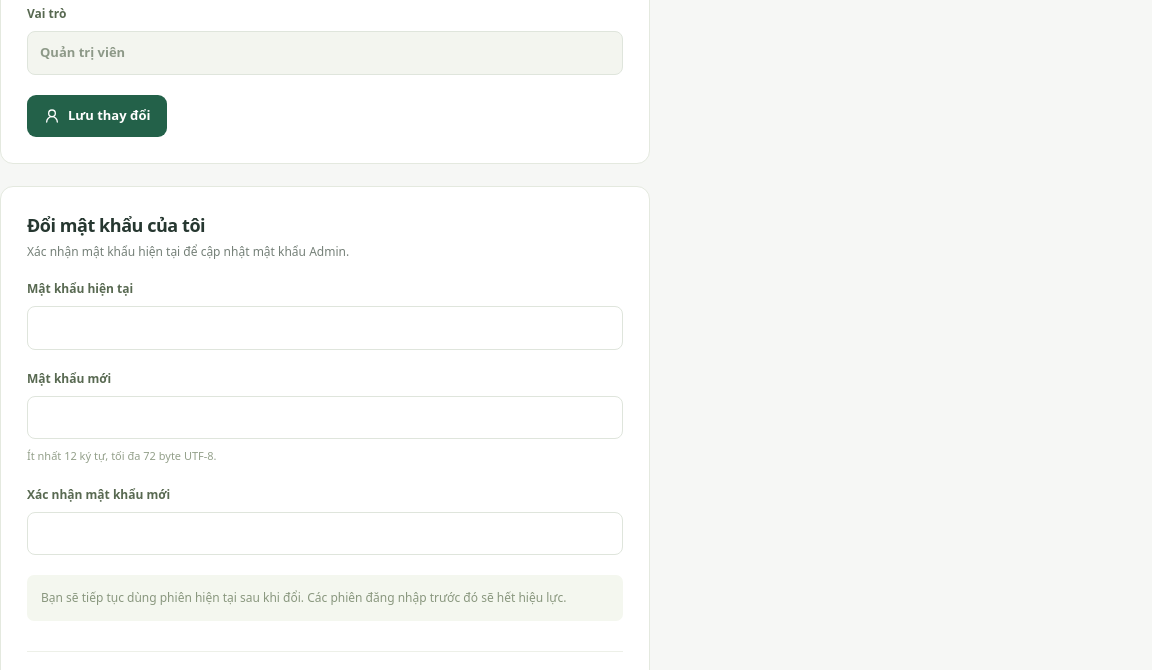
Scenario: keeps the admin signed in with the newly issued token after changing their password
The image size is (1152, 670).
(page scrolled)
Check: the heading "Đổi mật khẩu của tôi" is shown, box x1=27 y1=213 x2=205 y2=237
Type "ExistingPassword123!" into the password field labelled "Mật khẩu hiện tại" at x=325, y=328, box x1=27 y1=306 x2=623 y2=350
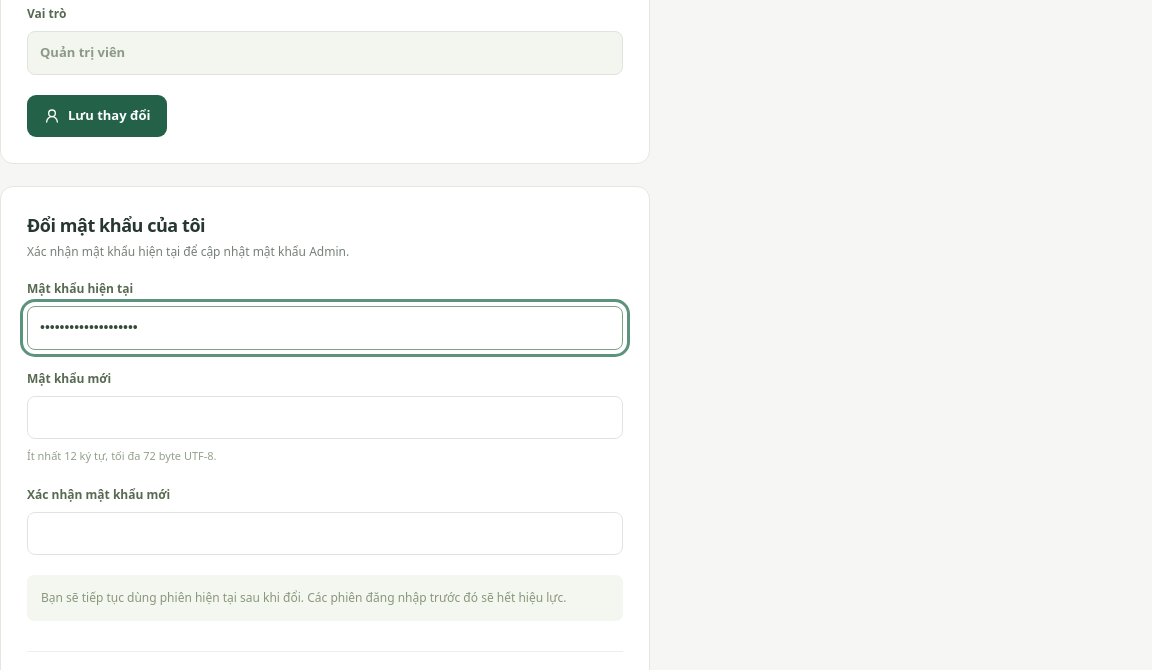
Type "NewPasswordForTest123!" into the password field labelled "Mật khẩu mới" at x=325, y=417, box x1=27 y1=396 x2=623 y2=439
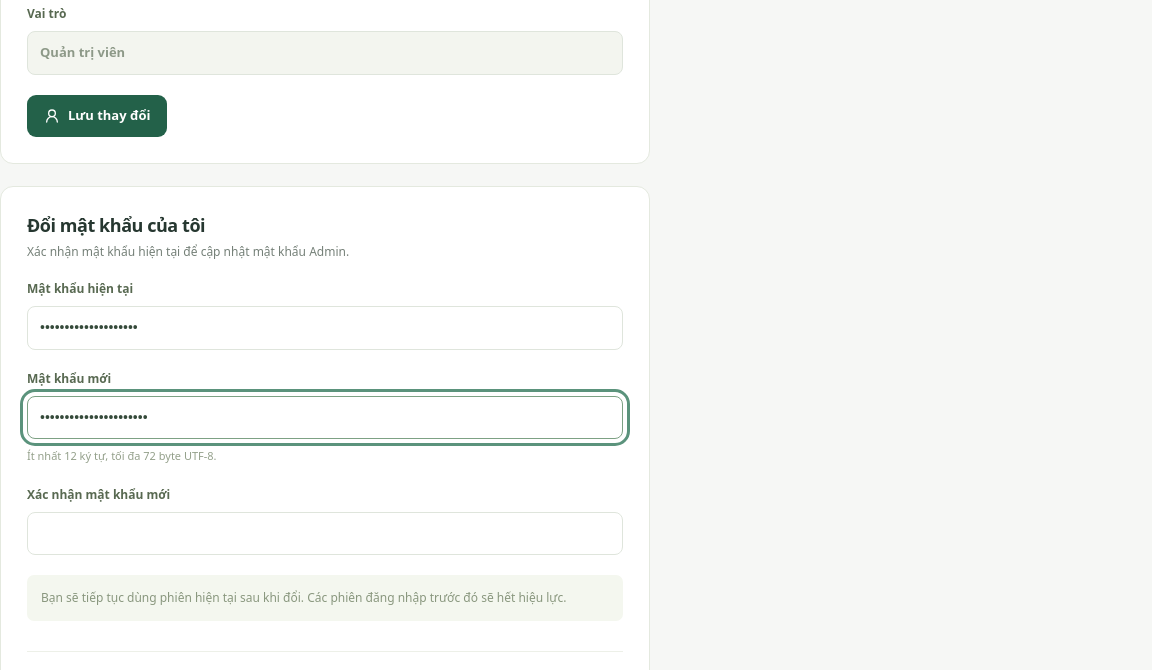
Type "NewPasswordForTest123!" into the password field labelled "Xác nhận mật khẩu mới" at x=325, y=534, box x1=27 y1=512 x2=623 y2=555
(page scrolled)
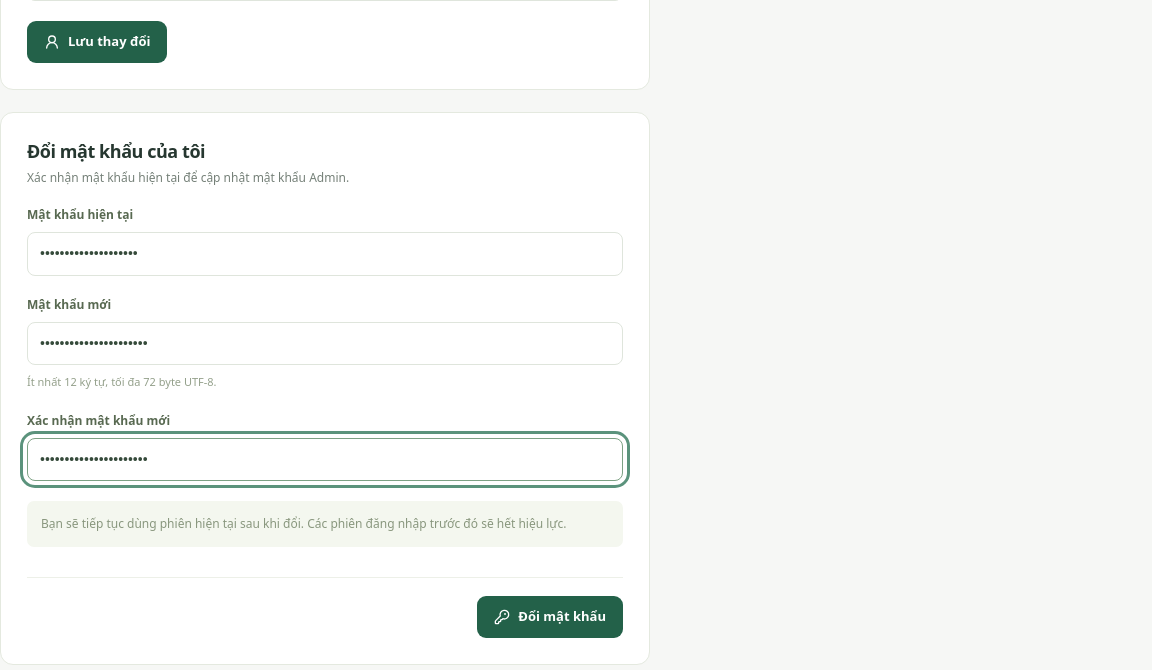
Click the button "Đổi mật khẩu" at x=550, y=617, box x1=477 y1=596 x2=623 y2=638
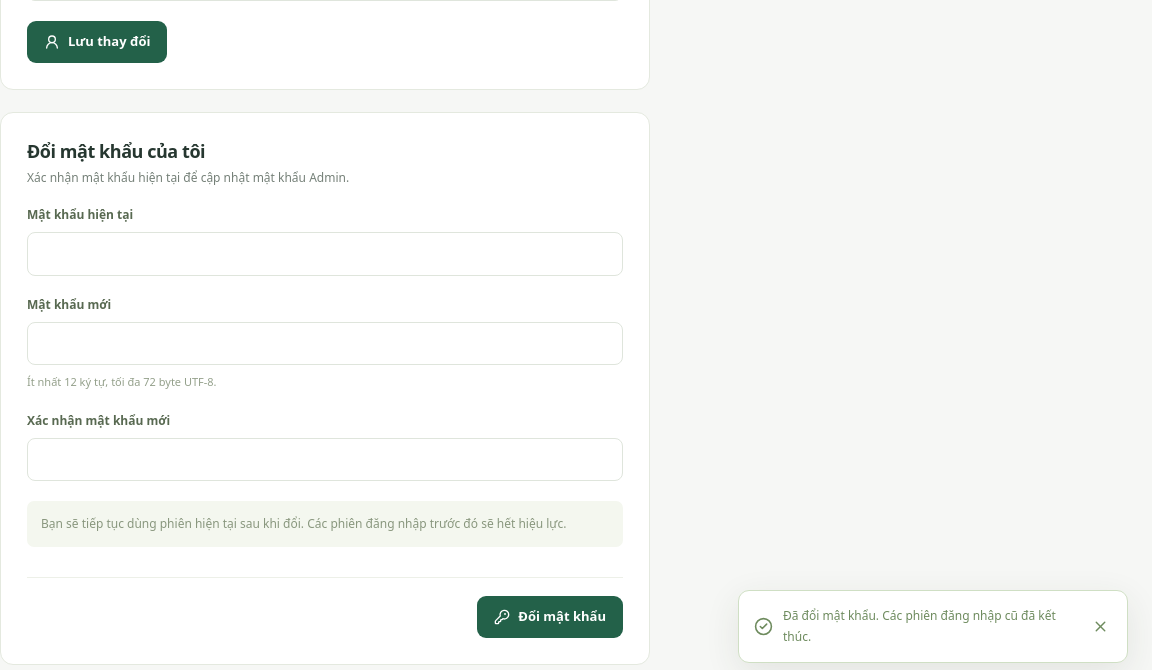
Check: the heading "Đổi mật khẩu của tôi" is shown, box x1=27 y1=139 x2=205 y2=163
Check: the password field labelled "Mật khẩu mới" is empty, box x1=27 y1=322 x2=623 y2=365
